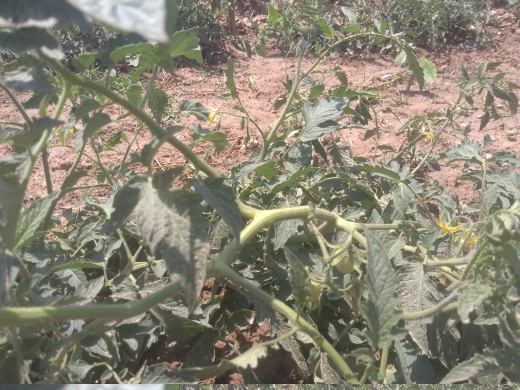tomato flower: (429, 202, 475, 254)
tomato plant: (10, 27, 514, 367)
